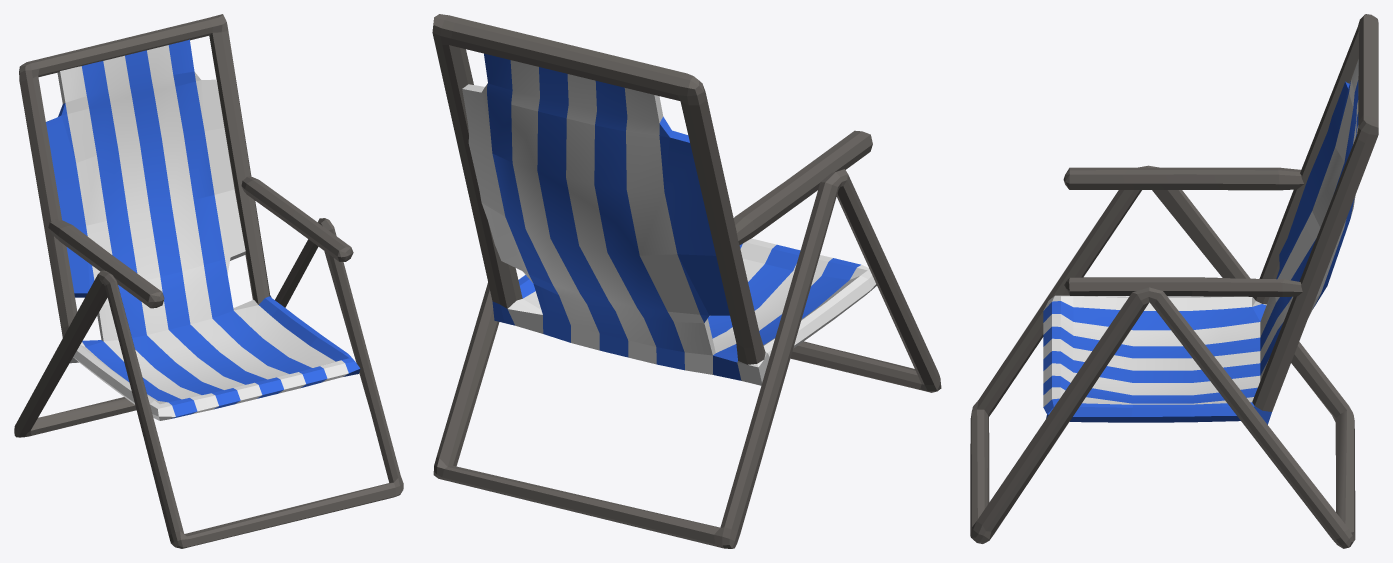
File: Chair_Deck.fbx
The picture shows the model from 3 angles, left to right: view 1: azimuth 30°, elevation 25°; view 2: azimuth 150°, elevation 25°; view 3: azimuth 270°, elevation 25°; orthographic projection. The views are drawn at different scales.
Visible parts, largest first — view 1: Chair_Deck; view 2: Chair_Deck; view 3: Chair_Deck.
Boxes of the visible parts, box(x1,y1,x2,y2) form: Chair_Deck: box(14, 14, 403, 548); Chair_Deck: box(432, 14, 941, 548); Chair_Deck: box(970, 14, 1378, 548).
Bounding box in the file's own units: 102 × 154 × 135.
